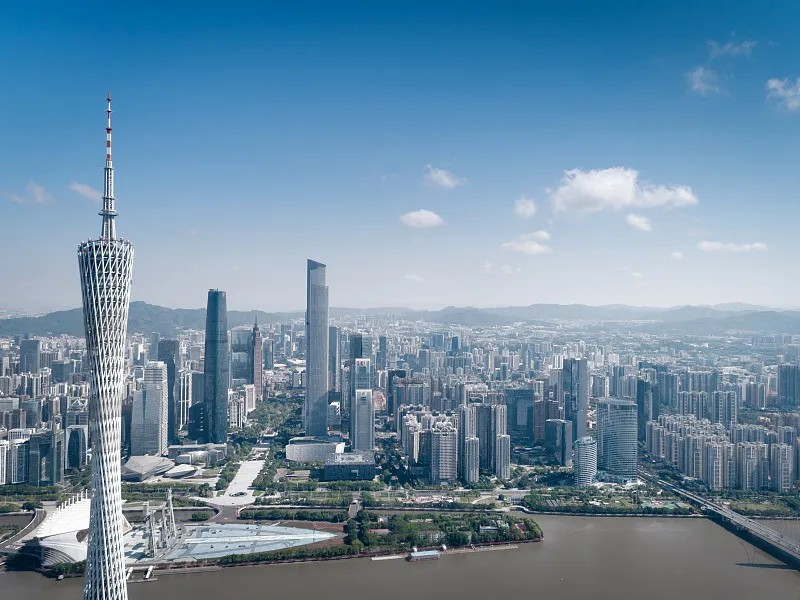Canton: (74, 89, 134, 600)
